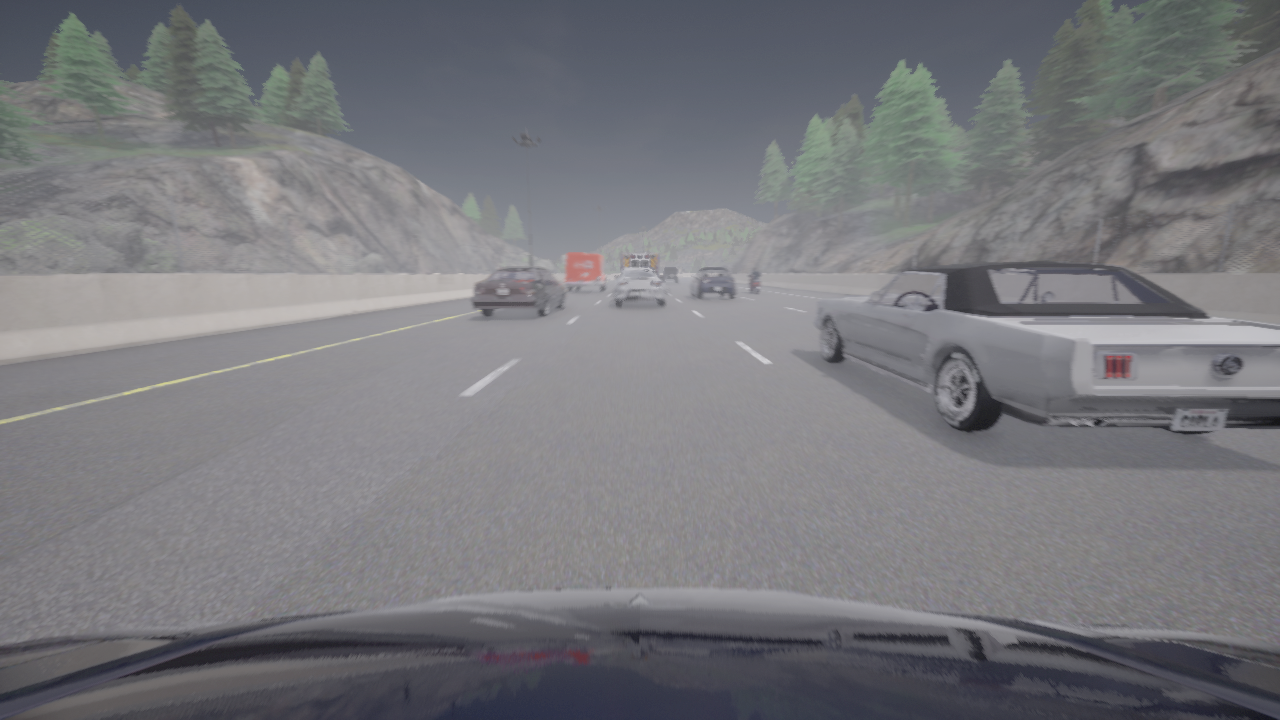cyclist: (0, 588, 1279, 719), (814, 263, 1279, 434), (471, 267, 566, 316), (610, 267, 668, 306), (565, 254, 607, 291), (690, 268, 735, 299), (621, 253, 658, 273), (661, 268, 678, 283), (750, 275, 760, 293)
